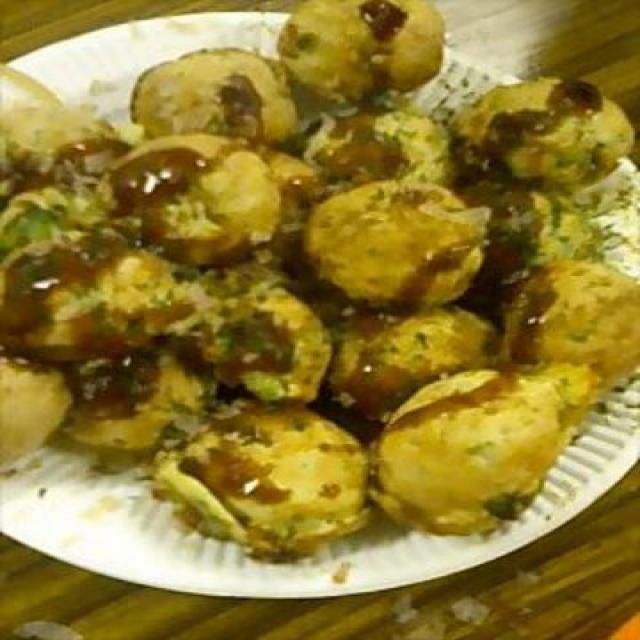炸货点心: (0, 4, 640, 549)
